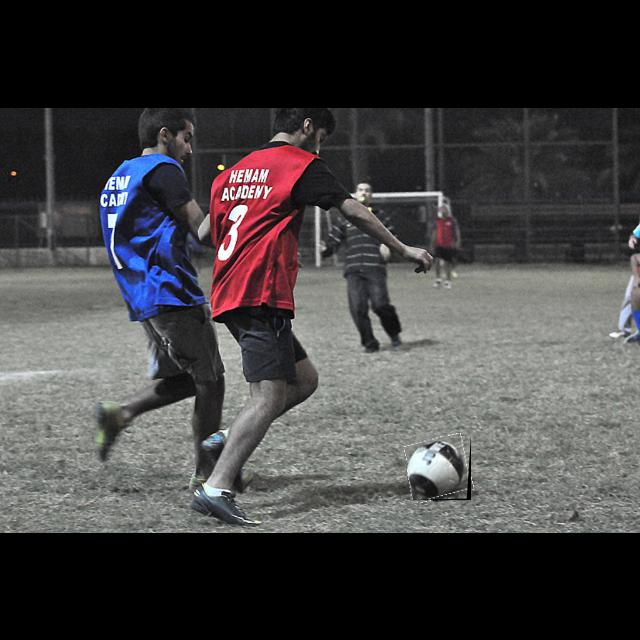Football: (407, 436, 471, 500)
